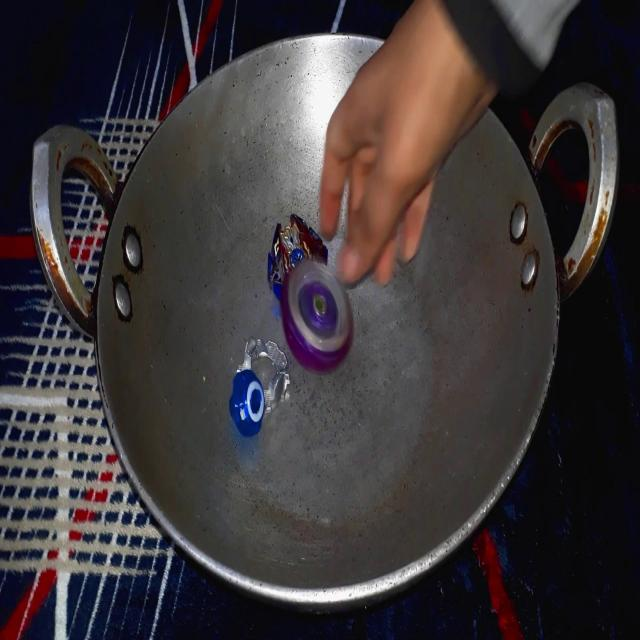beyblade: (276, 250, 364, 385)
broken beyblade: (224, 328, 297, 447), (261, 209, 336, 318)
